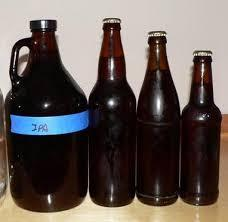Glass bottle: (4, 5, 228, 217)
